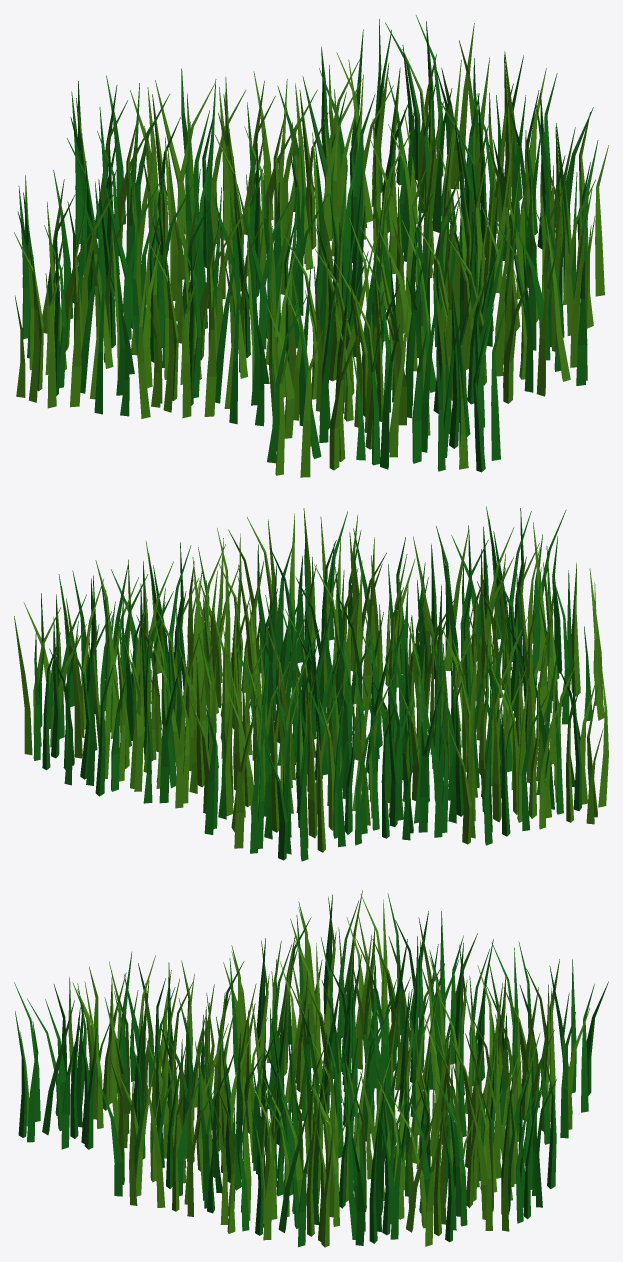
File: GrassPatch.fbx
3 renders of one model, top to bottom at view 1: azimuth 30°, elevation 25°; view 2: azimuth 150°, elevation 25°; view 3: azimuth 270°, elevation 25°, orthographic. The views are drawn at different scales.
Visible parts, largest first — view 1: Node-Mesh, Node-Mesh_1; view 2: Node-Mesh, Node-Mesh_1; view 3: Node-Mesh_1, Node-Mesh.
Boxes of the visible parts, x1,y1,x2,y2 form: Node-Mesh: (14,23,608,477); Node-Mesh_1: (17,15,598,472); Node-Mesh: (14,508,608,852); Node-Mesh_1: (33,506,592,861); Node-Mesh_1: (14,893,608,1247); Node-Mesh: (20,890,589,1247).
Bounding box in the file's own units: 2.78 × 0.8967 × 2.84.
